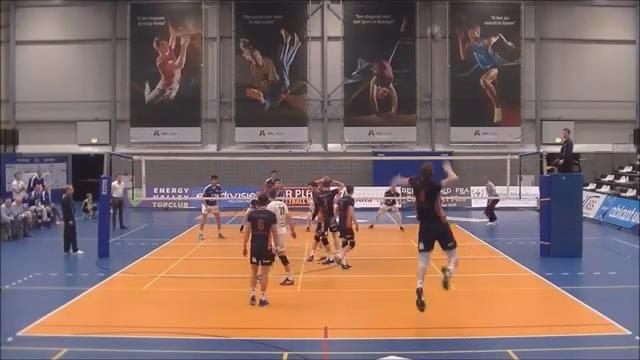battuta: (387, 157, 462, 311)
